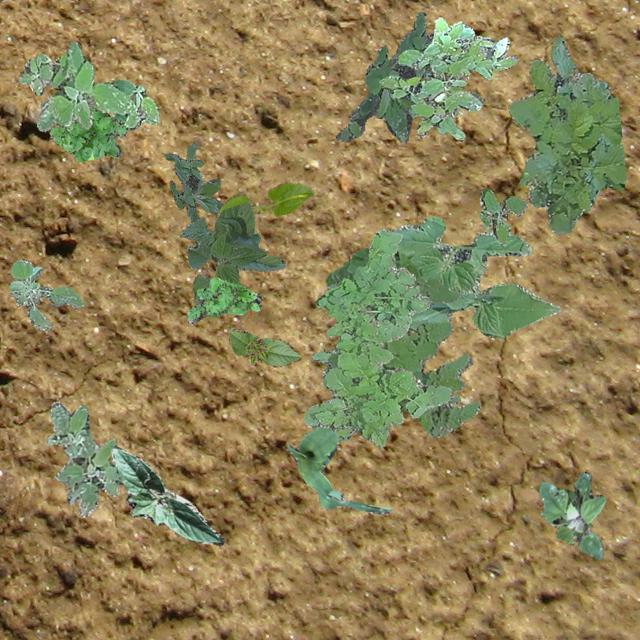crop: (390, 216, 560, 336), (110, 444, 223, 544), (178, 202, 284, 302), (284, 426, 392, 512), (215, 182, 312, 224), (227, 326, 300, 366)
weed: (302, 228, 452, 447), (324, 246, 480, 437), (508, 36, 626, 232), (378, 17, 516, 138), (334, 10, 438, 140), (16, 41, 158, 130), (44, 401, 122, 516), (538, 471, 604, 558), (8, 258, 84, 329), (164, 142, 222, 222), (50, 104, 126, 160), (187, 276, 260, 324), (406, 80, 461, 132), (478, 188, 526, 245)
